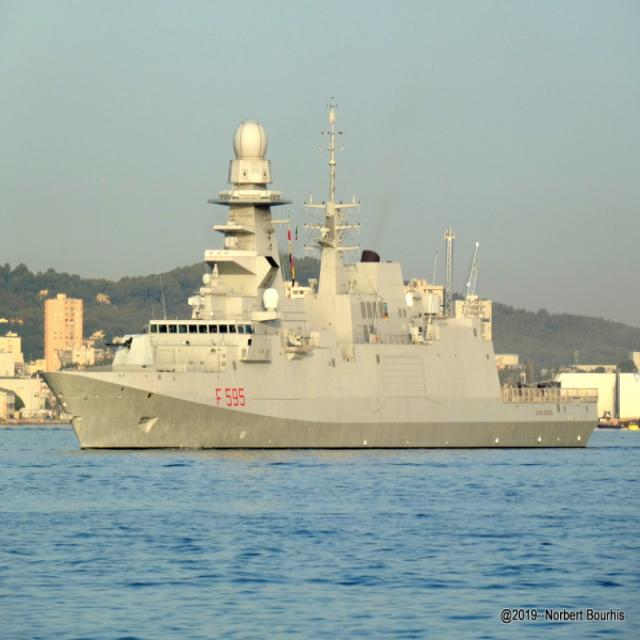Fragata: (41, 102, 608, 461)
